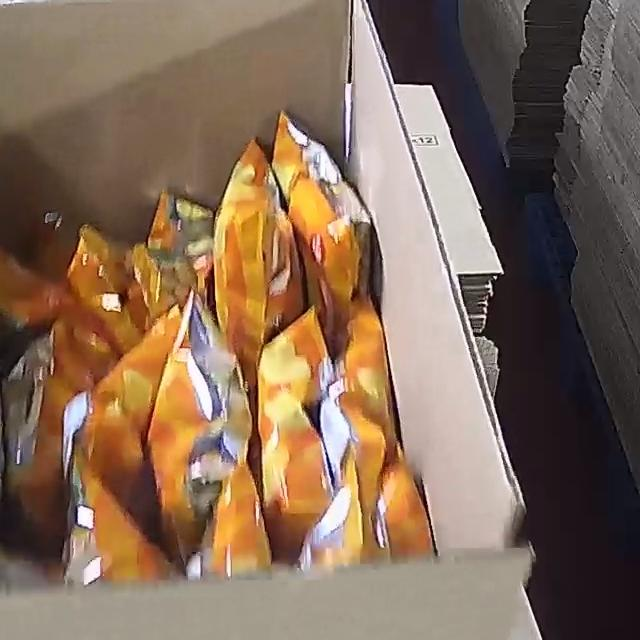cheese: (0, 107, 435, 589)
